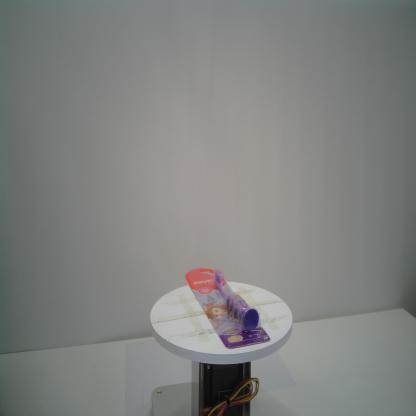Personal Hygiene: (185, 268, 271, 350)
